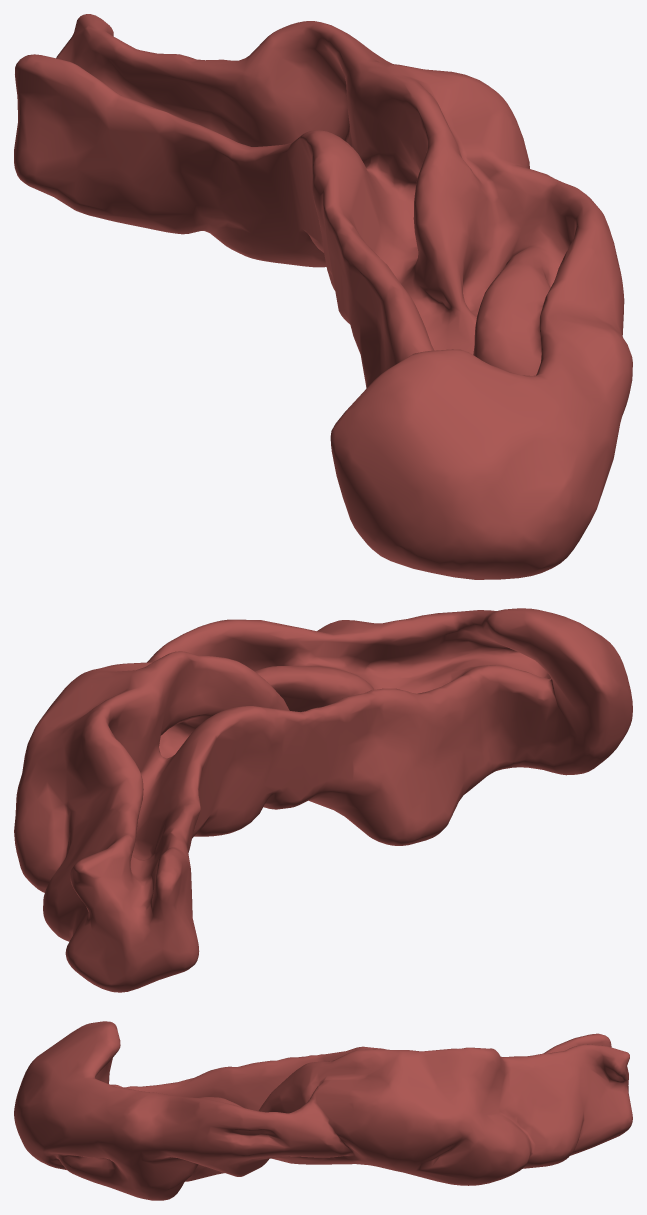
The model's file is FMA72688.glb.
The picture shows the model from 3 angles, top to bottom: view 1: azimuth 30°, elevation 25°; view 2: azimuth 150°, elevation 25°; view 3: azimuth 270°, elevation 25°; orthographic projection. The views are drawn at different scales.
Parts seen in each view (by area): view 1: FMA72688; view 2: FMA72688; view 3: FMA72688.
Part boxes in pixels (box(x1,y1,x2,y2)): FMA72688: box(14, 14, 632, 579); FMA72688: box(14, 608, 632, 992); FMA72688: box(14, 1021, 632, 1200).
Bounding box in the file's own units: 0.0415 × 0.028 × 0.0908.
